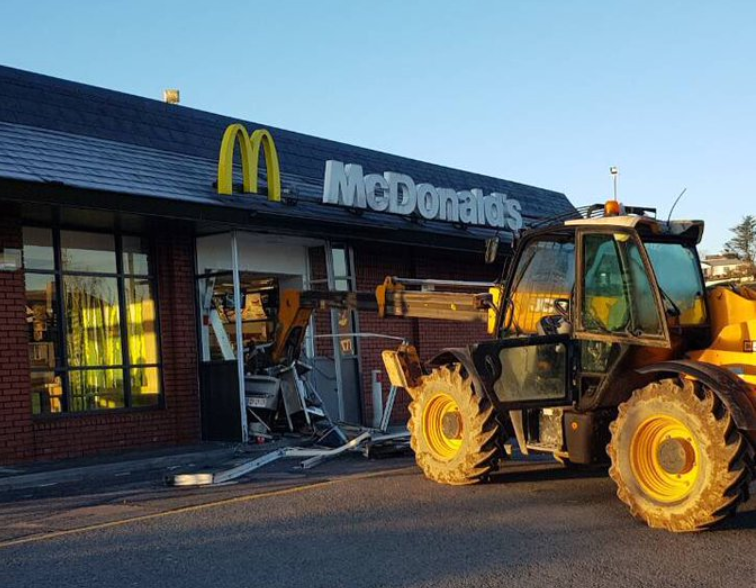mcdonalds: (215, 113, 291, 209)
